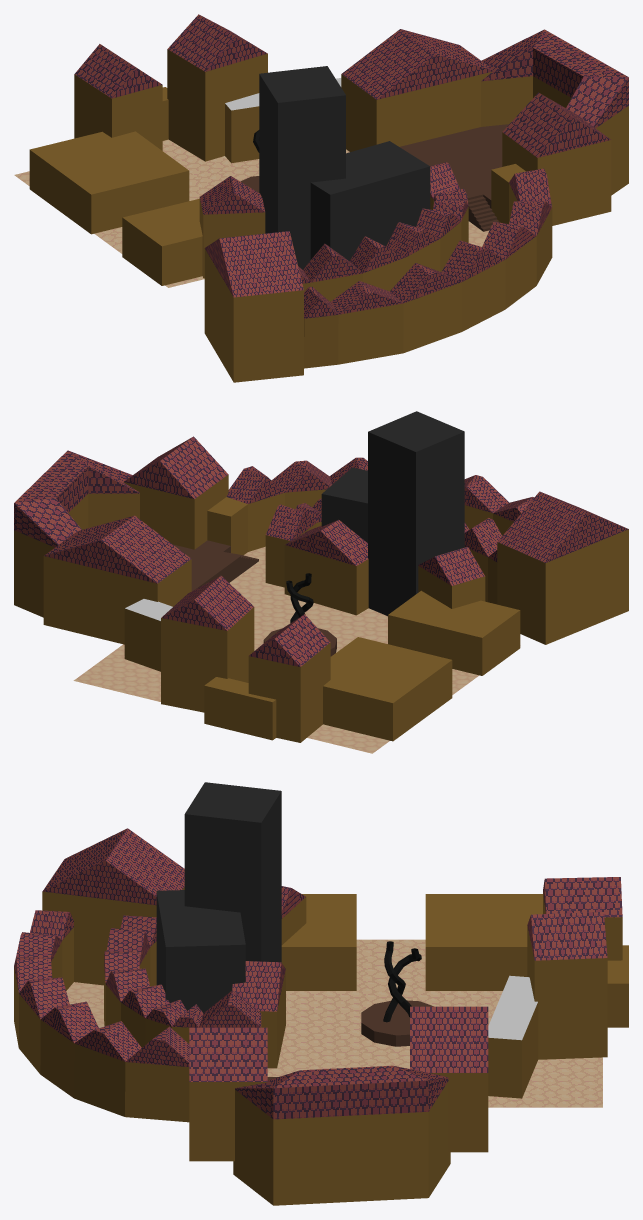
File: floor1.obj
3 views of the same model, one above another, from view 1: azimuth 30°, elevation 25°; view 2: azimuth 150°, elevation 25°; view 3: azimuth 270°, elevation 25° (orthographic). The views are drawn at different scales.
Parts seen in each view (by area): view 1: Alley, Cube.012, Cube, Cube.004, Cube.011, Plane.003, Cube.003, Cube.007, Cube.001, Cube.008, Cube.010, Plane.002 (+4 smaller); view 2: Cube.004, Cube.012, Alley, Cube, Cube.011, Plane.003, Cube.007, Plane, Cube.010, Cube.008, Cube.001, Cube.002 (+6 smaller); view 3: Alley, Plane.003, Plane, Cube.004, Cube.012, Cube.007, Cube.011, Cube, Cube.003, Cube.001, Cube.010, Cube.006 (+8 smaller).
Boxes of the visible parts, x1,y1,x2,y2 form: Alley: (298,162,552,368); Cube.012: (204,231,303,382); Cube: (341,29,493,151); Cube.004: (259,66,345,269); Cube.011: (29,131,189,234); Plane.003: (481,29,628,195); Cube.003: (310,141,430,260); Cube.007: (167,14,267,161); Cube.001: (502,92,611,225); Cube.008: (74,44,162,150); Cube.010: (122,198,202,285); Plane.002: (400,124,509,208); Cube.004: (368,411,464,616); Cube.012: (497,491,628,644); Alley: (207,457,534,604); Cube: (43,515,191,644); Cube.011: (323,637,452,741); Plane.003: (14,450,139,617); Cube.007: (161,576,254,712); Plane: (73,576,478,753); Cube.010: (388,590,520,675); Cube.008: (248,614,330,742); Cube.001: (123,436,228,549); Cube.002: (284,520,368,615); Alley: (14,910,261,1122); Plane.003: (233,1065,450,1205); Plane: (267,939,602,1107); Cube.004: (184,782,281,962); Cube.012: (42,828,184,985); Cube.007: (527,912,607,1059); Cube.011: (425,894,542,990); Cube: (410,1006,488,1152); Cube.003: (156,890,245,1012); Cube.001: (189,1027,267,1161); Cube.010: (281,894,356,990); Cube.006: (488,975,538,1098).
Size of the model in its own units: 39.99 by 16.16 by 39.32.
